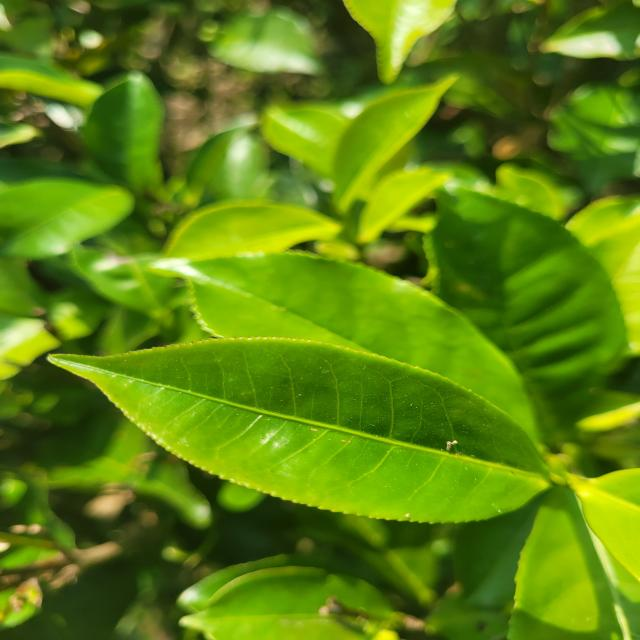Catagory A(1-2 days): (14, 330, 574, 551)
